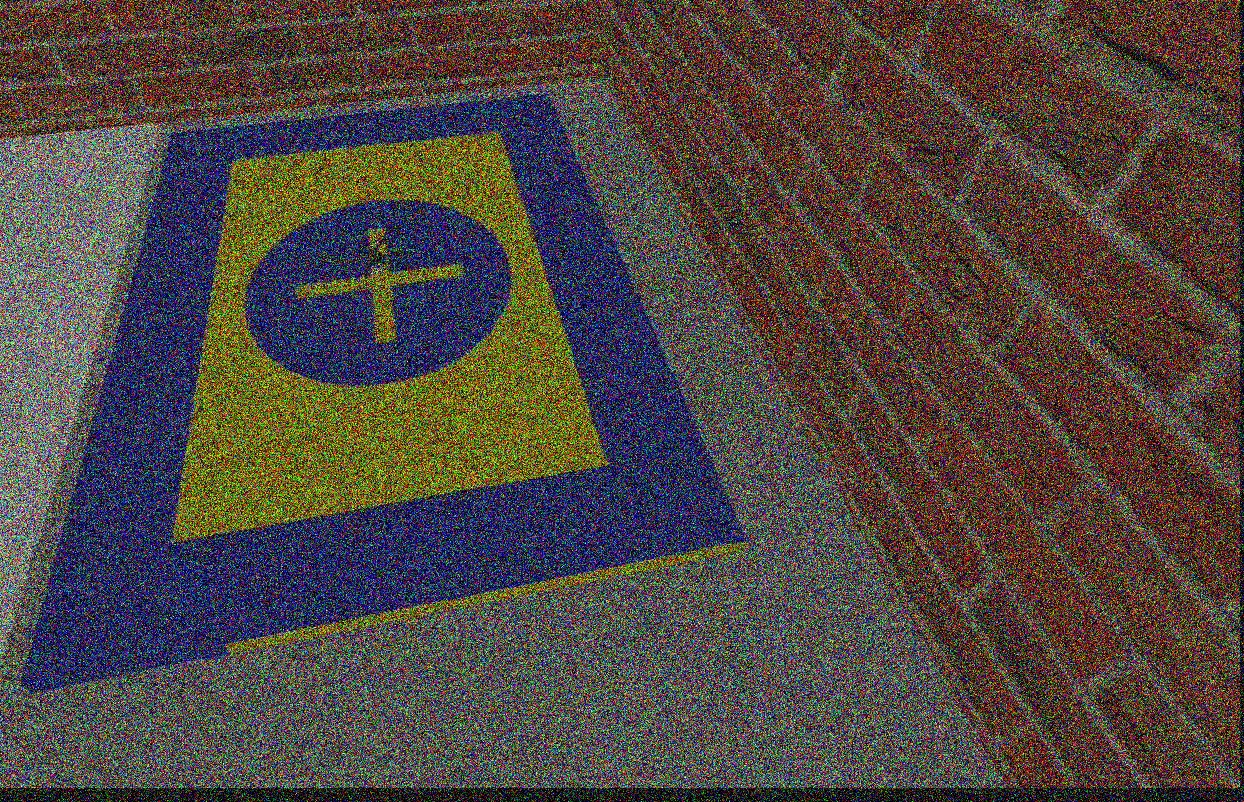large_base: (13, 92, 749, 686)
